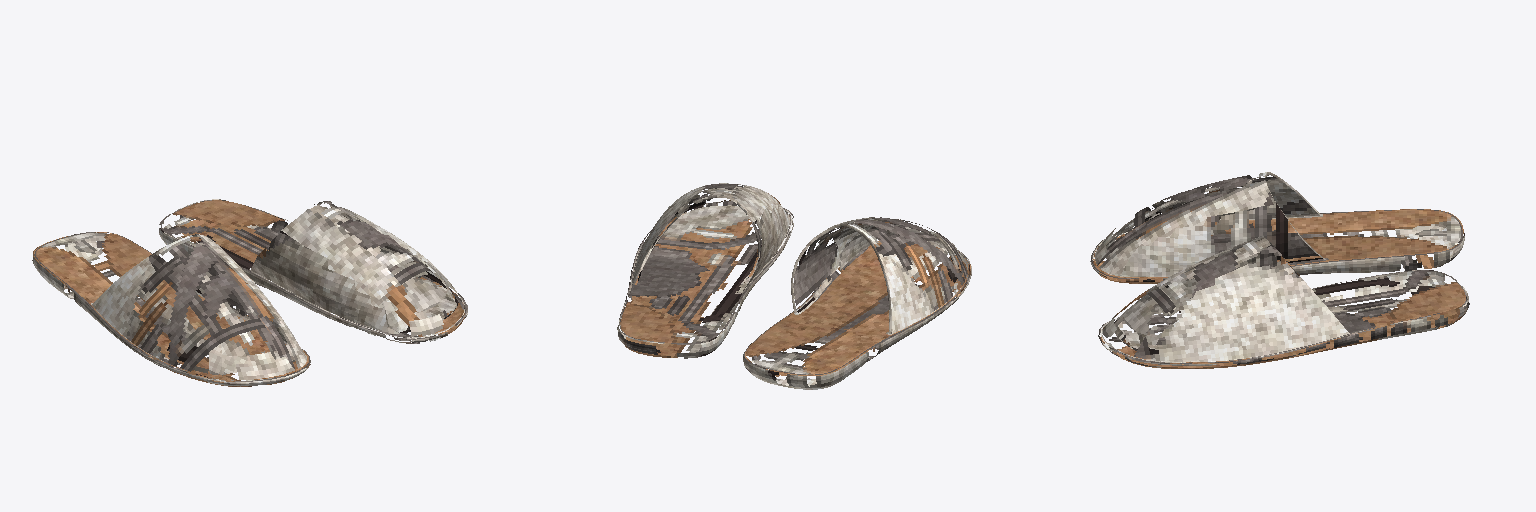
3 renders of one model, left to right at view 1: azimuth 30°, elevation 25°; view 2: azimuth 150°, elevation 25°; view 3: azimuth 270°, elevation 25°, orthographic.
Visible parts, largest first — view 1: solid_001, solid_003, solid_002; view 2: solid_003, solid_001, solid_002; view 3: solid_001, solid_003, solid_002.
Part boxes in pixels (x1,y1,x2,y2): solid_001: (91, 201, 463, 379); solid_003: (36, 200, 464, 380); solid_002: (32, 199, 467, 386); solid_003: (620, 202, 968, 374); solid_001: (632, 183, 967, 334); solid_002: (617, 203, 971, 389); solid_001: (1095, 172, 1350, 362); solid_003: (1093, 210, 1465, 362); solid_002: (1090, 209, 1469, 368).
Size of the model in its own units: 1.65 by 0.4574 by 1.79.
1 materials, 1 textured.